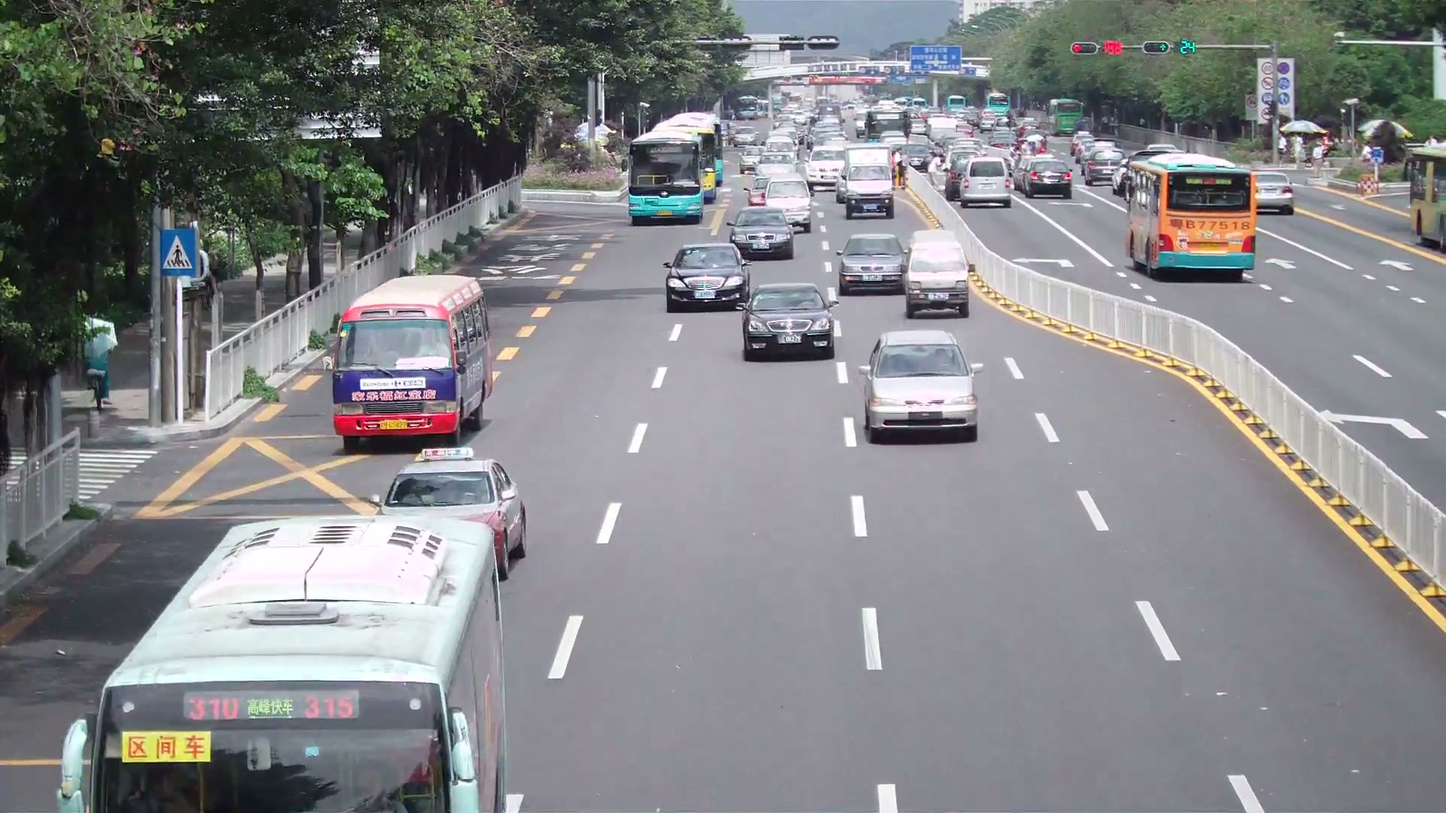bus: (56, 510, 509, 808), (330, 272, 492, 447), (1121, 148, 1258, 280), (638, 111, 724, 196), (626, 134, 704, 225)
car: (379, 455, 528, 580), (856, 327, 981, 444), (741, 283, 838, 361), (903, 229, 973, 318), (663, 242, 749, 311), (837, 232, 908, 296), (748, 170, 814, 230), (728, 208, 795, 260), (953, 154, 1014, 208), (1015, 154, 1074, 198), (1253, 170, 1296, 214)
pedestrian: (344, 758, 407, 812), (83, 315, 118, 409)
truck: (1406, 138, 1446, 252), (837, 143, 895, 218)
